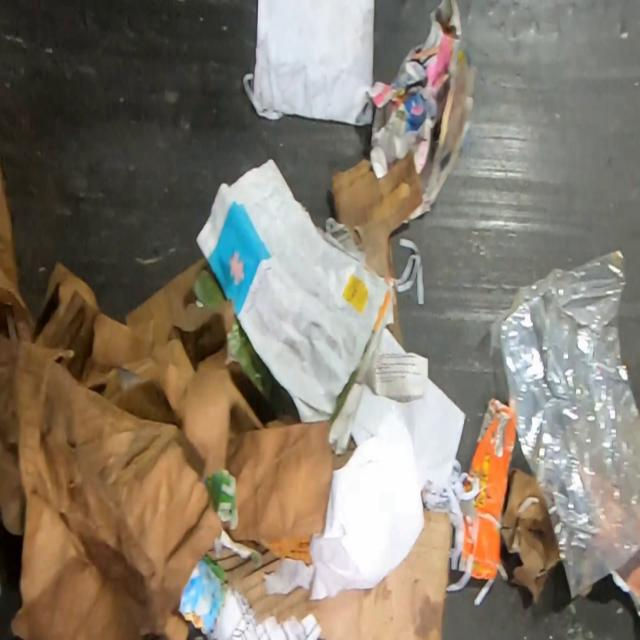cardboard: (0, 161, 226, 640), (90, 257, 358, 542), (203, 508, 454, 640), (166, 265, 300, 428), (327, 147, 424, 349), (458, 396, 517, 581), (613, 553, 639, 618)
soft_plastic: (498, 246, 640, 602)
